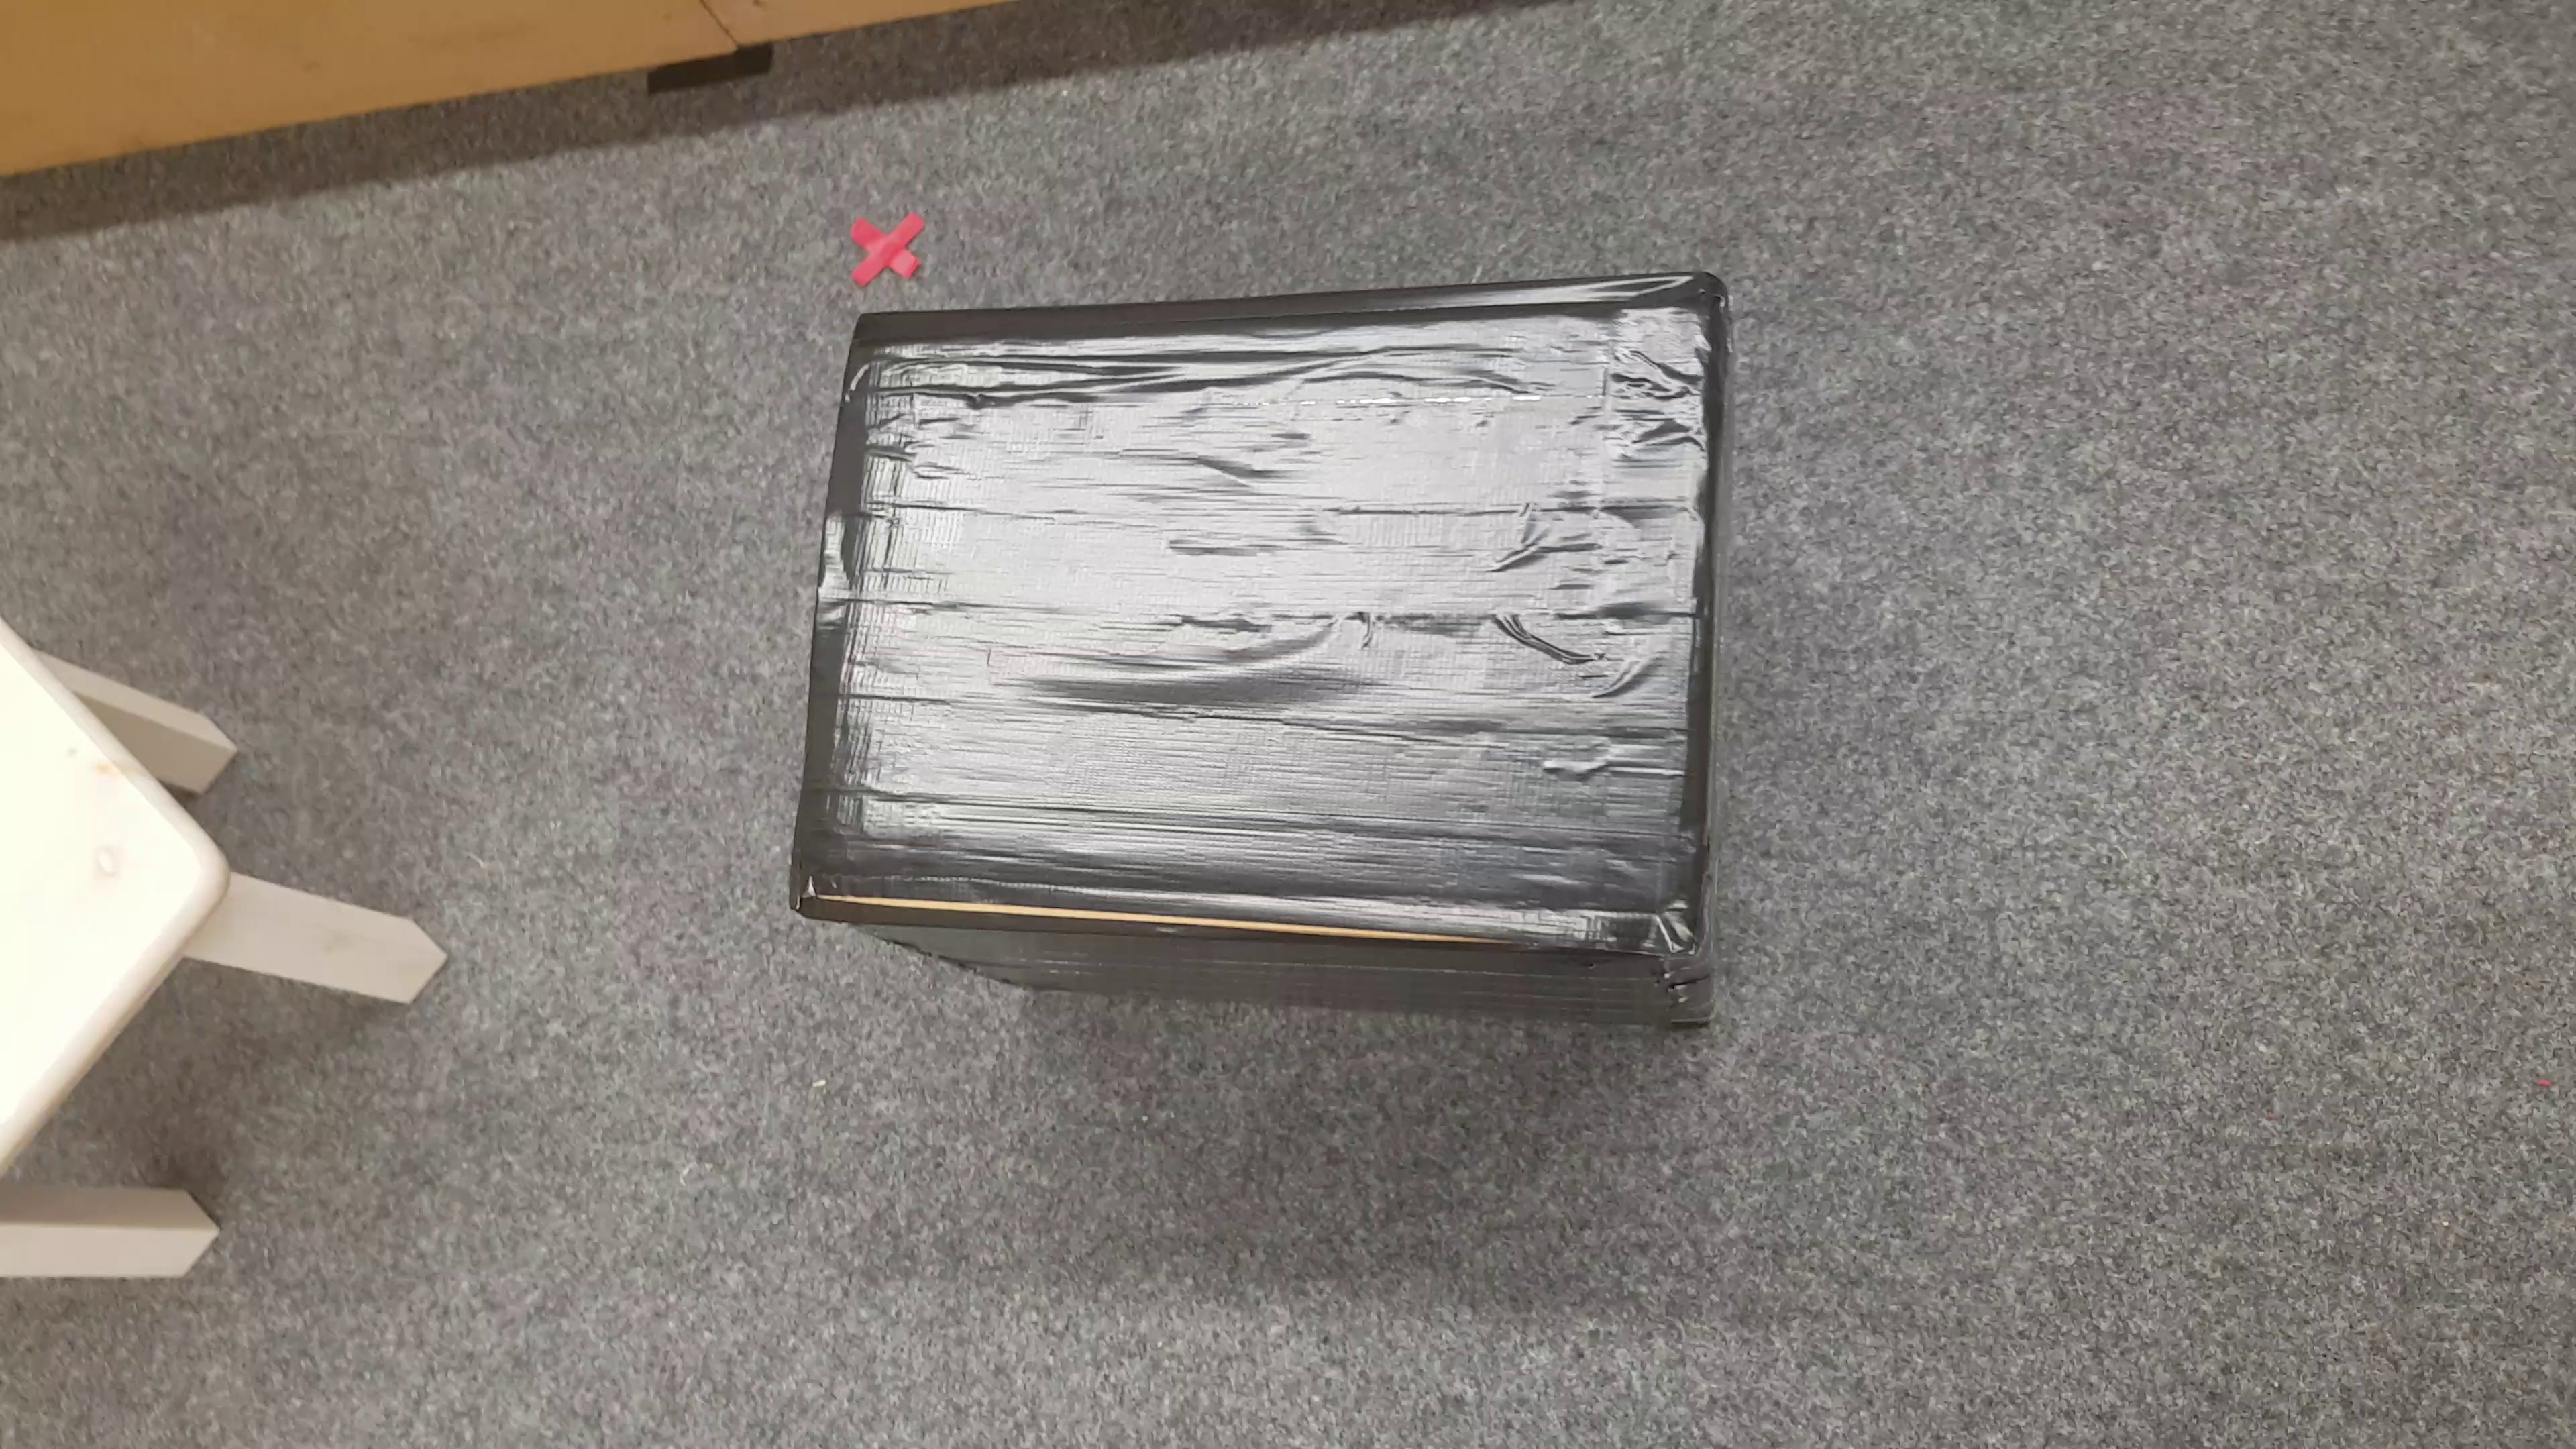push: (800, 303, 1725, 1044)
